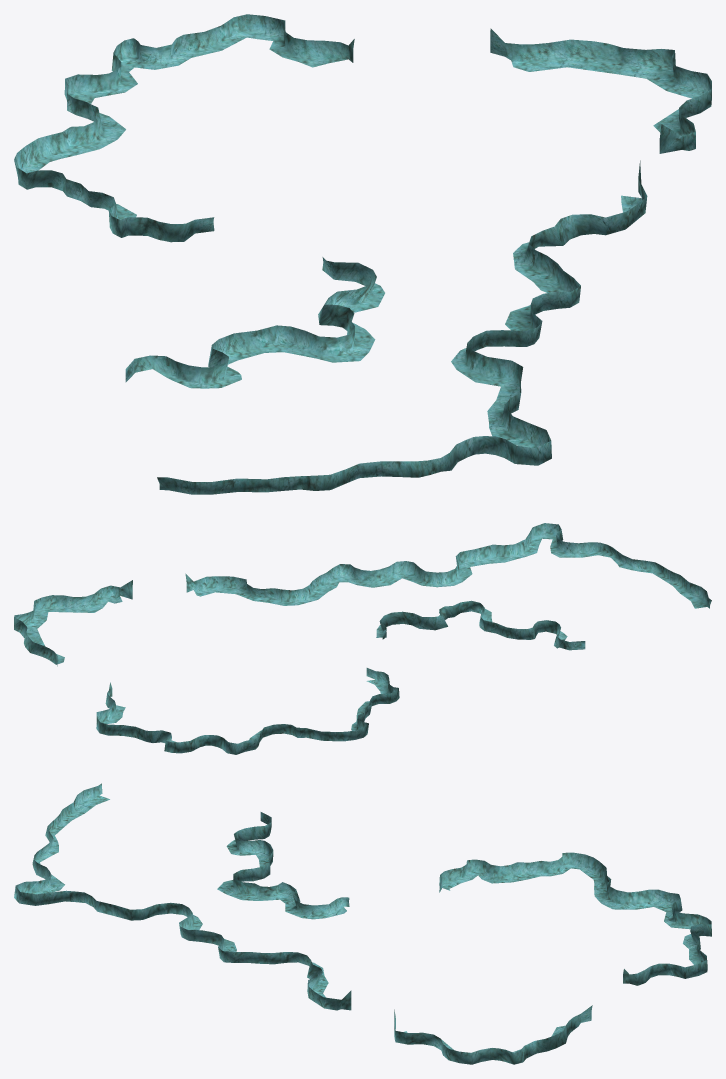
The model's file is EKH_CAVERNS_PS_CA_WALL_TRIM7475.fbx.
3 renders of one model, top to bottom at view 1: azimuth 30°, elevation 25°; view 2: azimuth 150°, elevation 25°; view 3: azimuth 270°, elevation 25°, orthographic. The views are drawn at different scales.
Visible parts, largest first — view 1: EKH_CAVERNS_PS_CA_WALL_TRIM7475; view 2: EKH_CAVERNS_PS_CA_WALL_TRIM7475; view 3: EKH_CAVERNS_PS_CA_WALL_TRIM7475.
Part boxes in pixels (x1,y1,x2,y2): EKH_CAVERNS_PS_CA_WALL_TRIM7475: (14, 14, 711, 494); EKH_CAVERNS_PS_CA_WALL_TRIM7475: (14, 523, 711, 754); EKH_CAVERNS_PS_CA_WALL_TRIM7475: (14, 783, 711, 1064).
Bounding box in the file's own units: 624499 × 25006 × 682204.
1 material, 1 textured.
